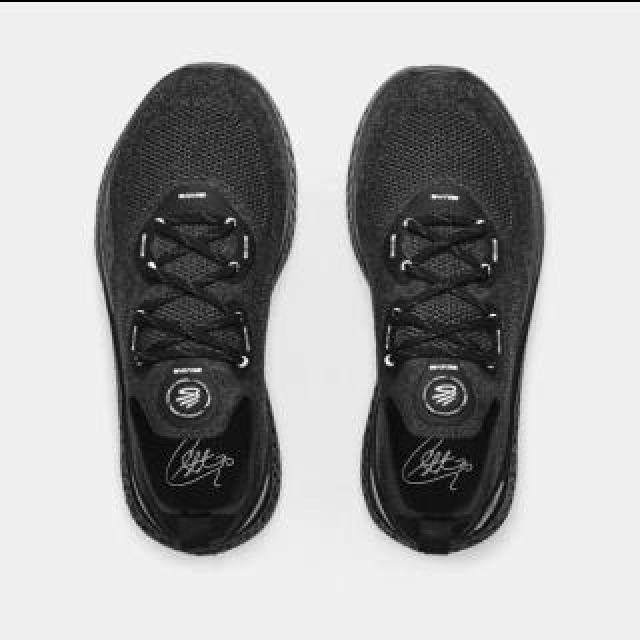shoe: (94, 60, 298, 556), (345, 63, 545, 551)
